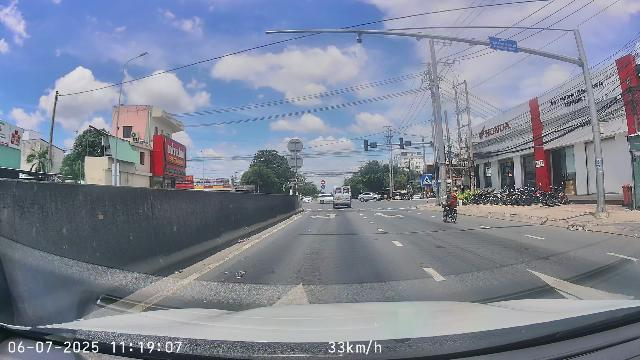423a-duong-nguoi-di-bo-sang-ngang-1: (421, 174, 432, 186)
